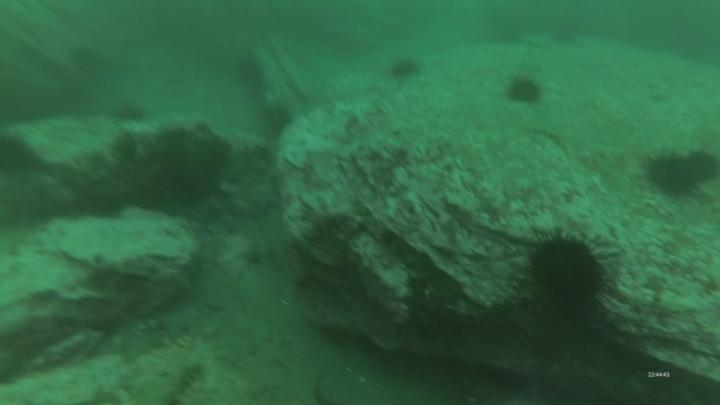echinus: (523, 227, 616, 318), (651, 145, 698, 201), (503, 75, 545, 107), (236, 52, 268, 91), (691, 145, 720, 180), (1, 136, 27, 173), (265, 107, 296, 137), (390, 59, 422, 81), (113, 104, 150, 123)
holothurian: (137, 360, 207, 405)
